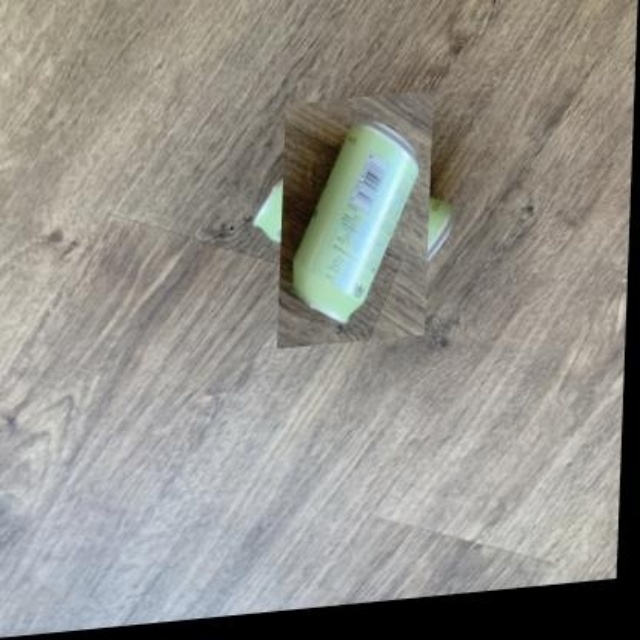trash: (292, 123, 417, 322)
